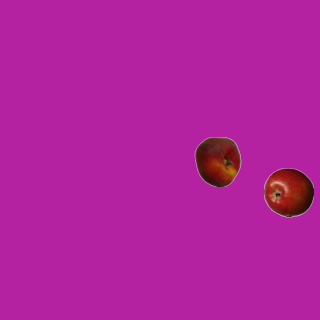Apple Braeburn: (263, 167, 313, 217)
Nectarine Flat: (192, 136, 242, 186)
